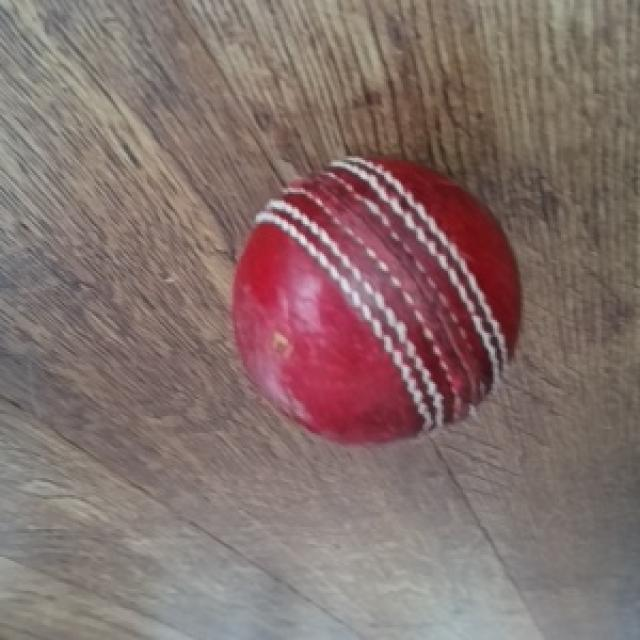ball: (230, 156, 523, 450)
